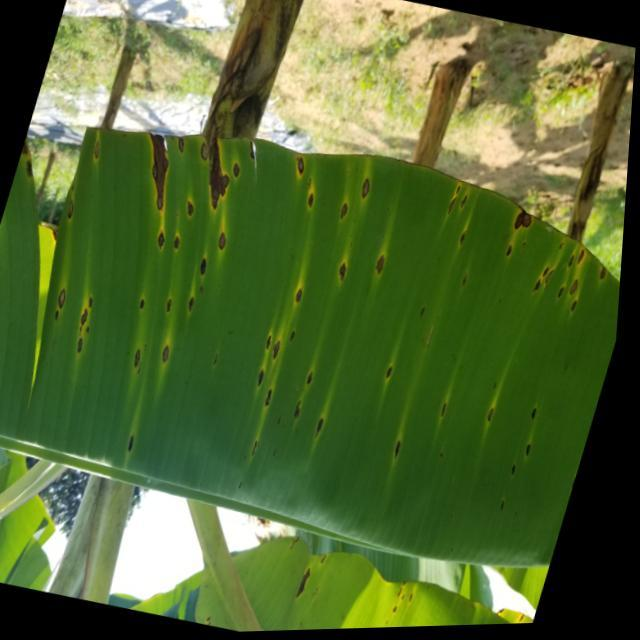Early_rust: (0, 85, 633, 550)
